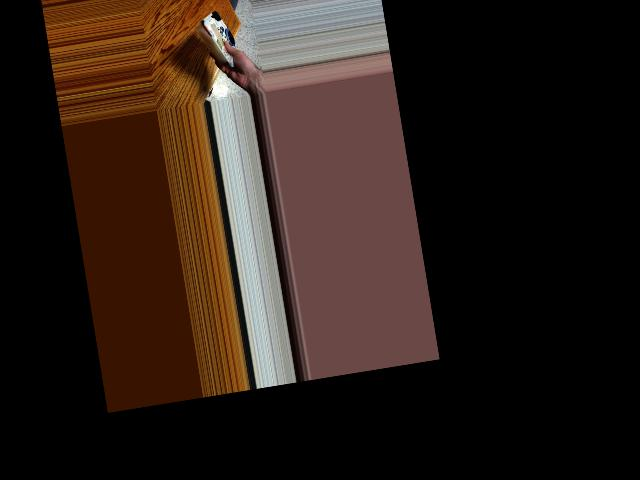cheese: (195, 10, 246, 63)
